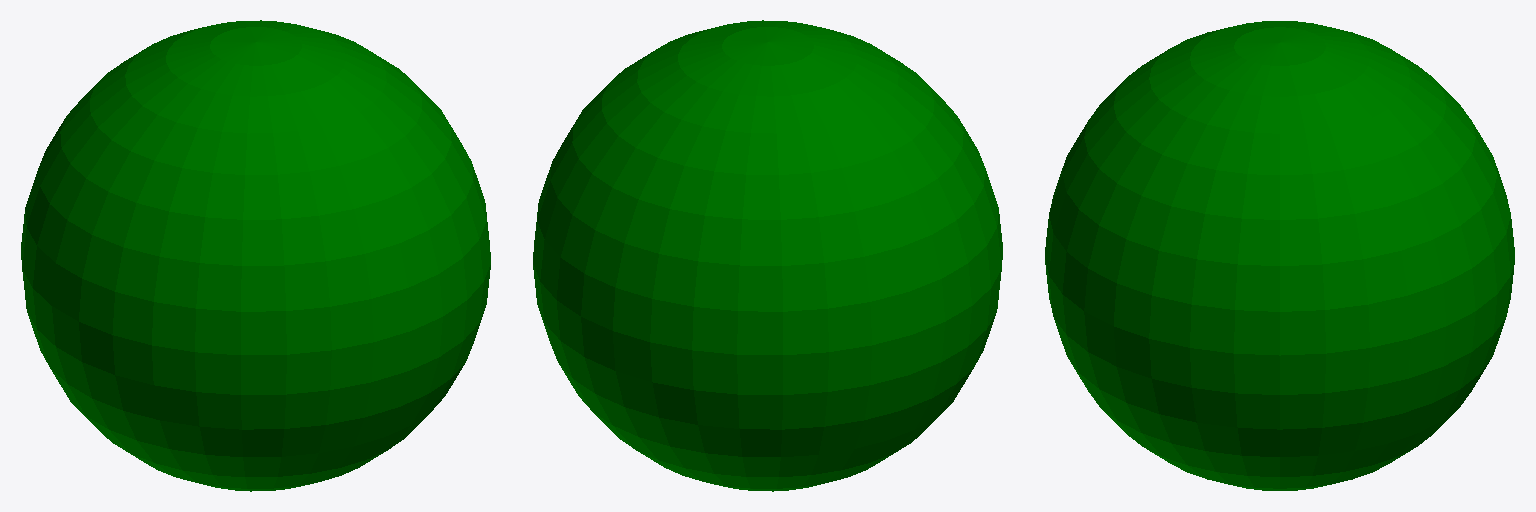
robot.urdf — robot:
<robot>
  <link name="base_link">
    <collision>
      <origin xyz="0  0  0" />
      <geometry>
        <sphere radius="0.013" />
      </geometry>
    </collision>
    <visual>
      <origin xyz="0  0  0" />
      <material name="c">
        <color rgba="0 0.5 0 1.0" />
      </material>
      <geometry>
        <sphere radius="0.013" />
      </geometry>
    </visual>
  </link>
</robot>

--- What the picture shows (computed from the rendered views, not written in the file) ---
3 views of the same robot in one strip: view 1: azimuth 30°, elevation 25°; view 2: azimuth 150°, elevation 25°; view 3: azimuth 270°, elevation 25° (orthographic).
Robot: robot — 1 links, 0 joints (none); root link base_link; default pose: every joint at zero.
Visible links, largest first — view 1: base_link; view 2: base_link; view 3: base_link.
Link boxes in pixels (x1=…): base_link: x1=21, y1=20, x2=490, y2=491; base_link: x1=533, y1=20, x2=1002, y2=491; base_link: x1=1045, y1=21, x2=1514, y2=490.
Size in the robot's own frame: 0.026 by 0.026 by 0.026 metres.
Geometry: primitives only (box / cylinder / sphere), no mesh files.